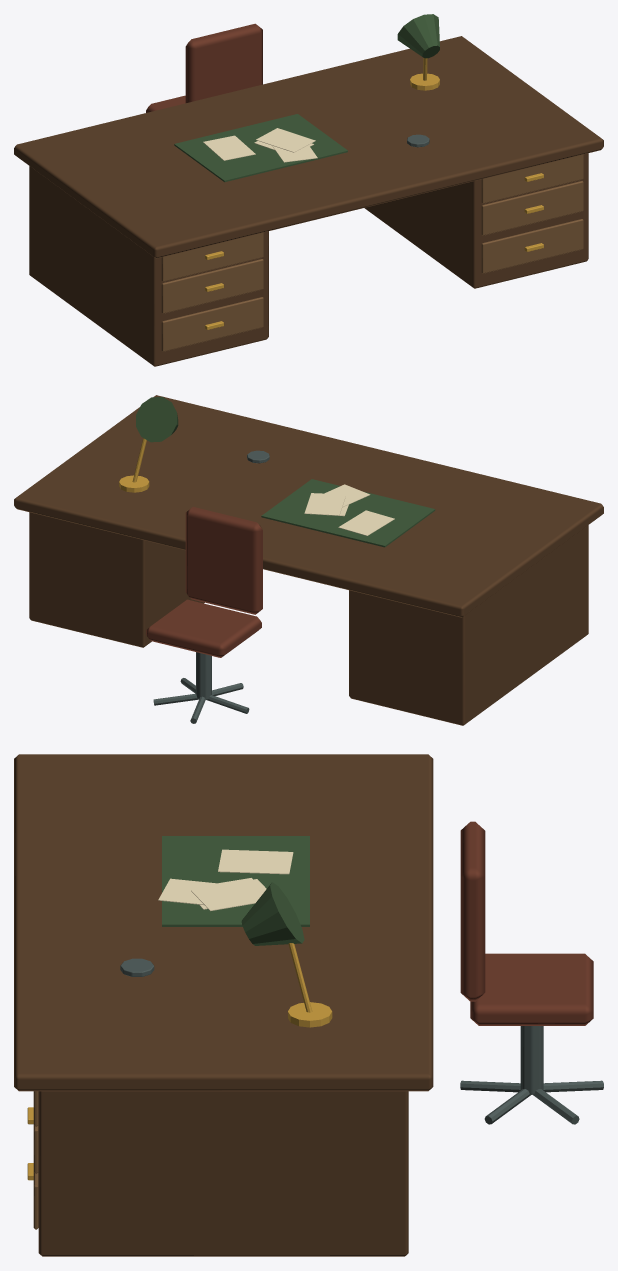
The model's file is WardenDesk.glb.
The picture shows the model from 3 angles, top to bottom: view 1: azimuth 30°, elevation 25°; view 2: azimuth 150°, elevation 25°; view 3: azimuth 270°, elevation 25°; orthographic projection. The views are drawn at different scales.
Parts seen in each view (by area): view 1: WardenDesk.001; view 2: WardenDesk.001; view 3: WardenDesk.001.
Boxes of the visible parts, bbox=[...] form: WardenDesk.001: bbox=[14, 14, 603, 366]; WardenDesk.001: bbox=[14, 395, 603, 725]; WardenDesk.001: bbox=[14, 754, 603, 1256].
Size of the model in its own units: 3.1 by 1.39 by 2.39.
